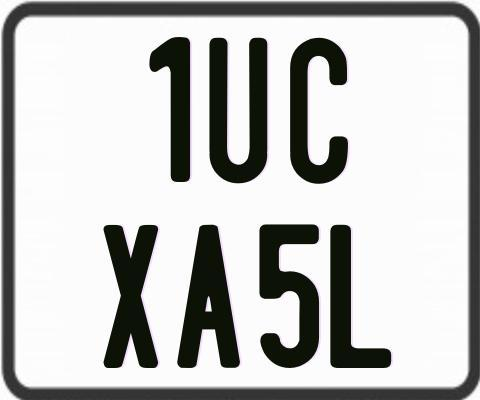1: (149, 34, 191, 184)
5: (256, 221, 319, 366)
A: (175, 224, 238, 368)
C: (288, 37, 349, 186)
L: (327, 222, 392, 367)
U: (206, 38, 266, 188)
X: (102, 223, 159, 372)
